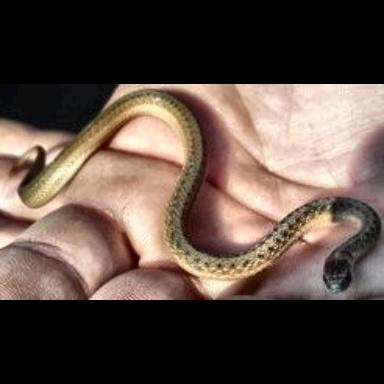snake: (0, 85, 384, 301)
